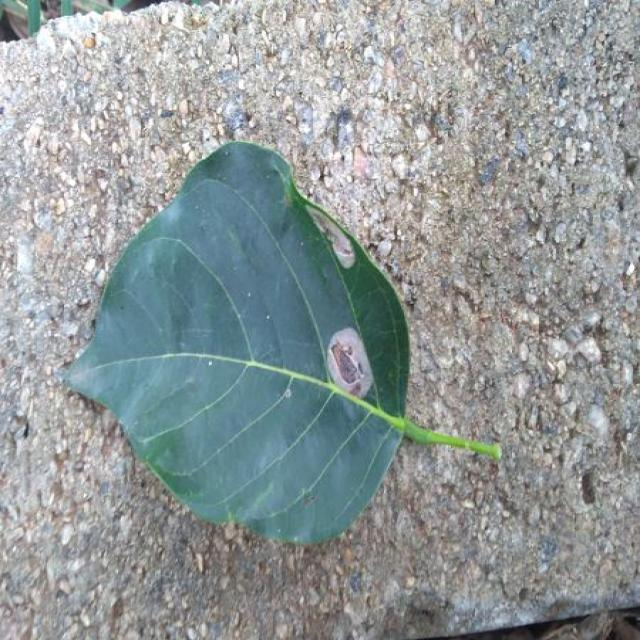honge: (65, 141, 500, 542)
powdery mildew: (328, 328, 373, 397), (307, 205, 355, 268)
